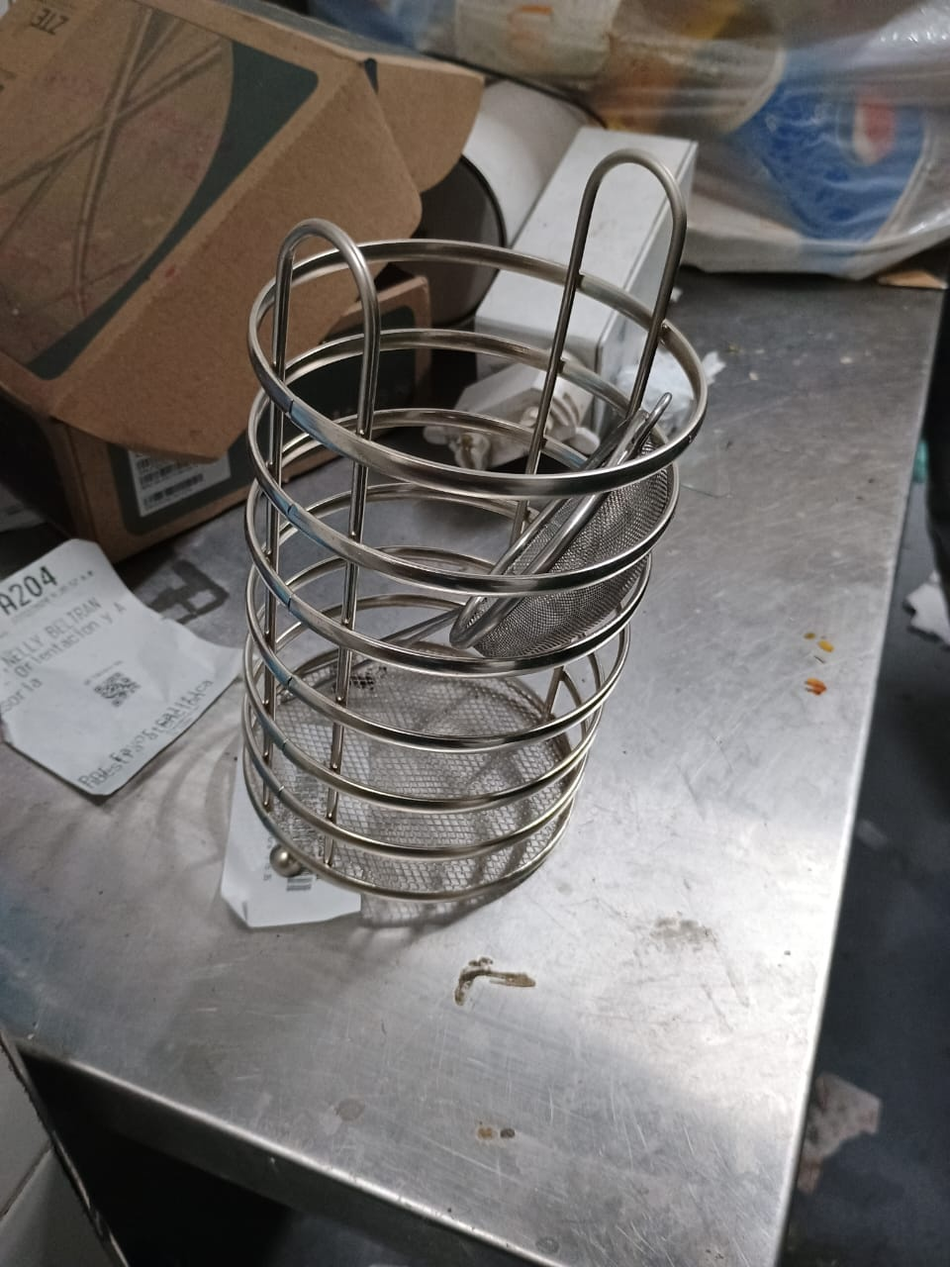Ordinario: (240, 147, 708, 898)
